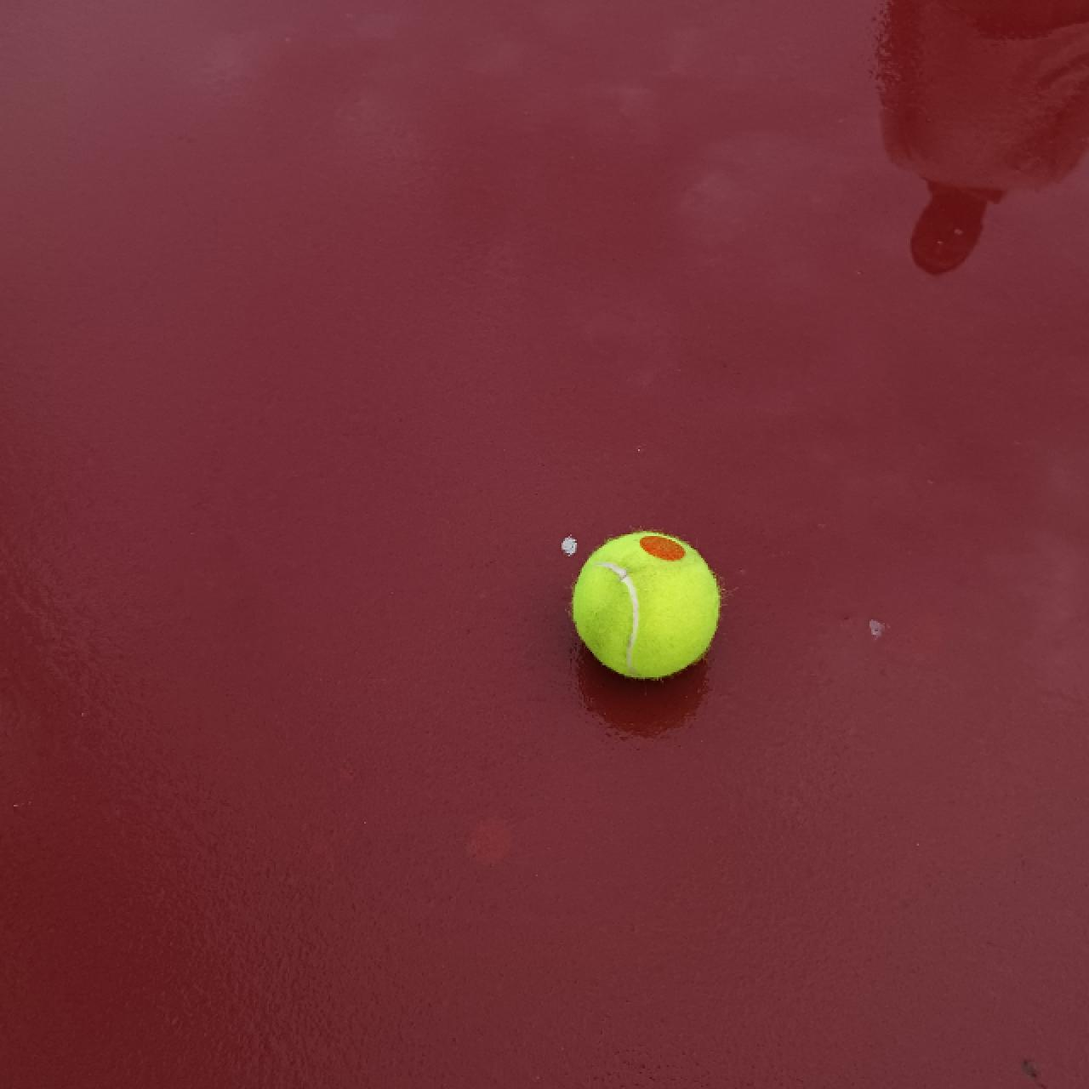tennis-ball: (571, 531, 722, 681)
